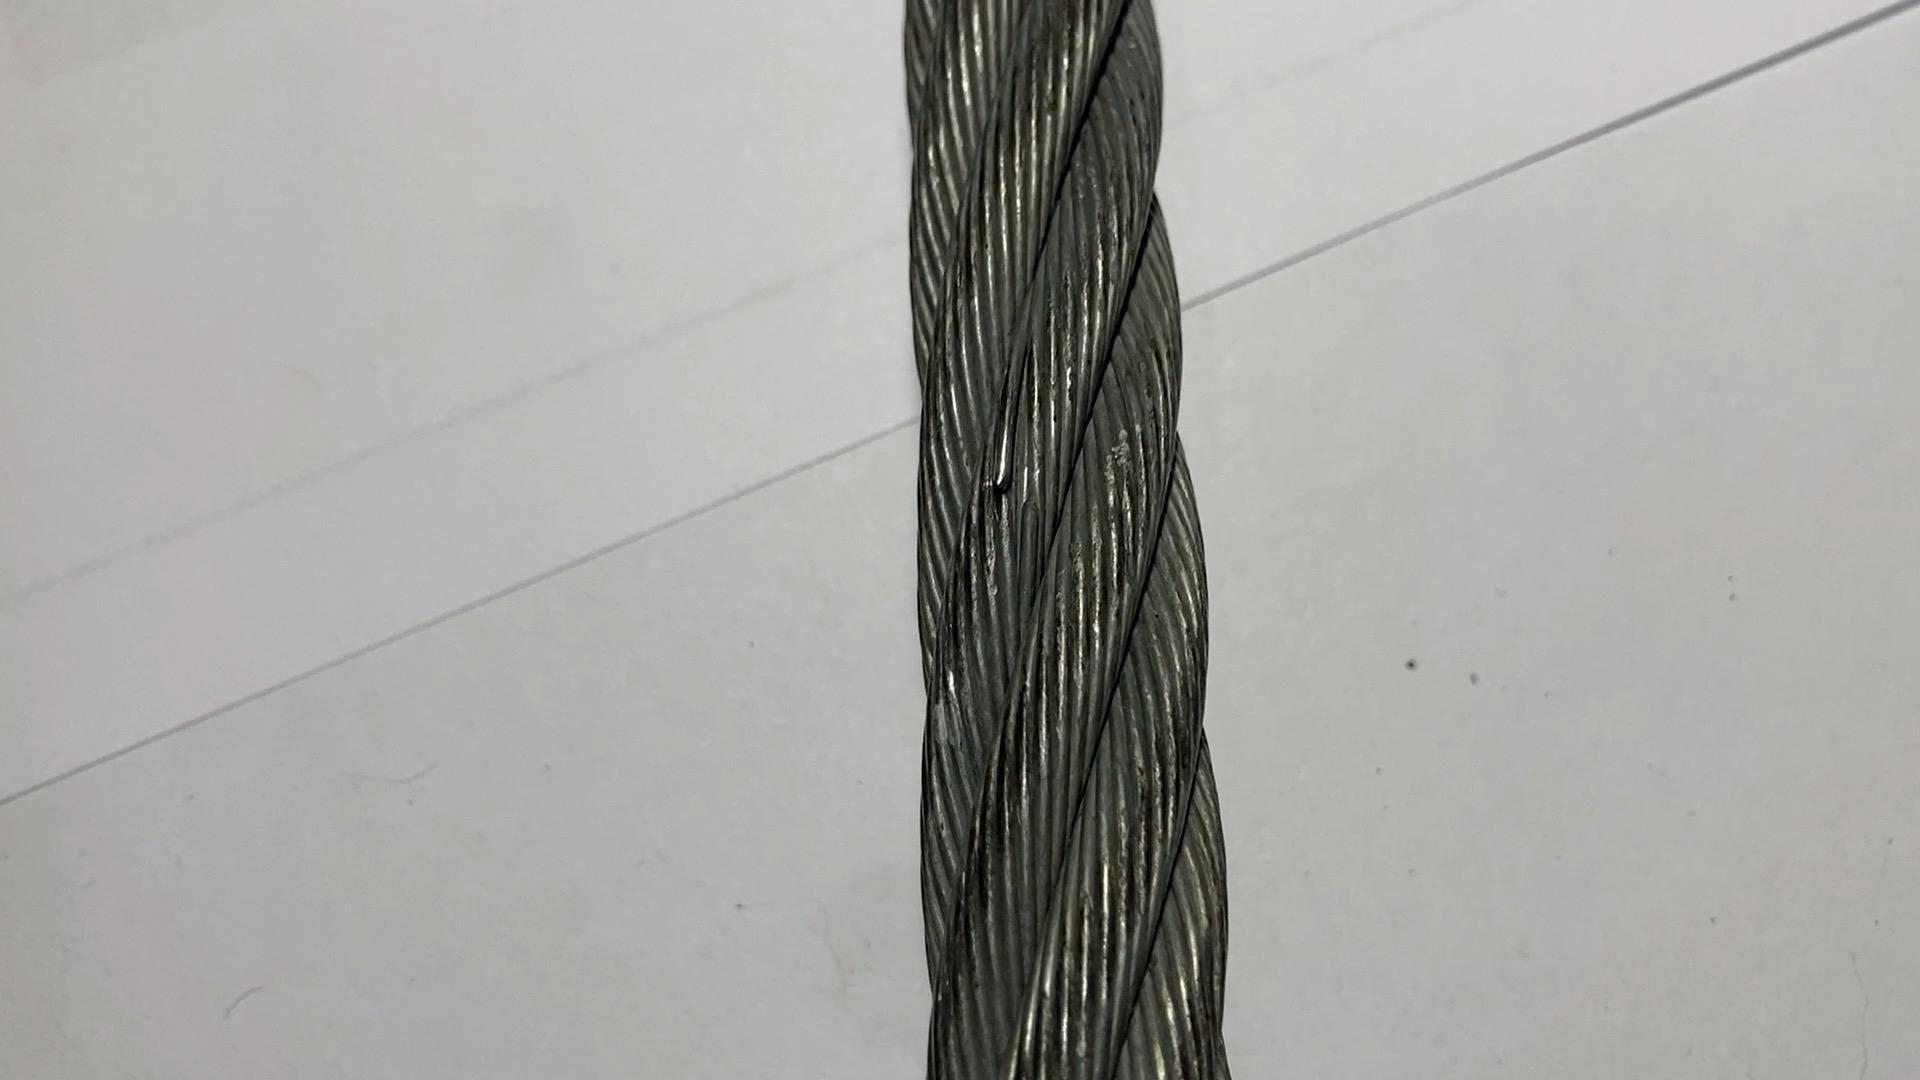break: (982, 462, 1023, 510)
